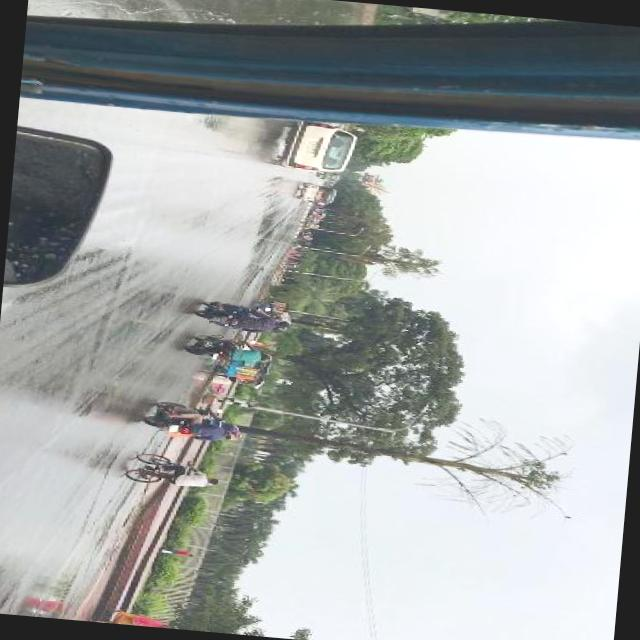car: (267, 118, 357, 175)
motorcycle: (140, 398, 243, 444), (194, 297, 290, 335), (187, 333, 276, 367), (294, 182, 338, 205), (300, 222, 320, 231), (320, 174, 340, 182), (325, 182, 335, 188)
